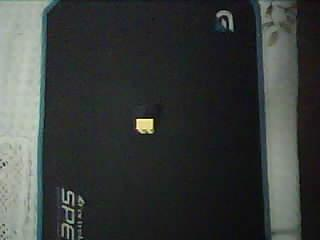lego: (135, 118, 155, 135)
